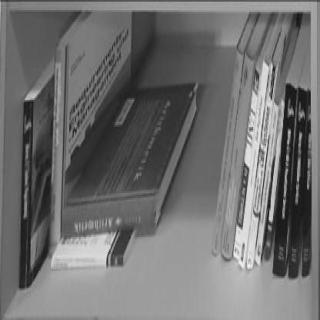book-spine: (220, 51, 256, 257), (211, 47, 245, 253), (238, 61, 270, 267), (246, 61, 278, 267), (233, 67, 260, 258), (272, 80, 298, 275), (59, 193, 160, 235), (254, 101, 279, 264), (288, 86, 307, 277), (49, 46, 66, 255), (264, 99, 285, 258), (18, 100, 34, 287), (302, 89, 315, 275), (50, 253, 124, 266)
